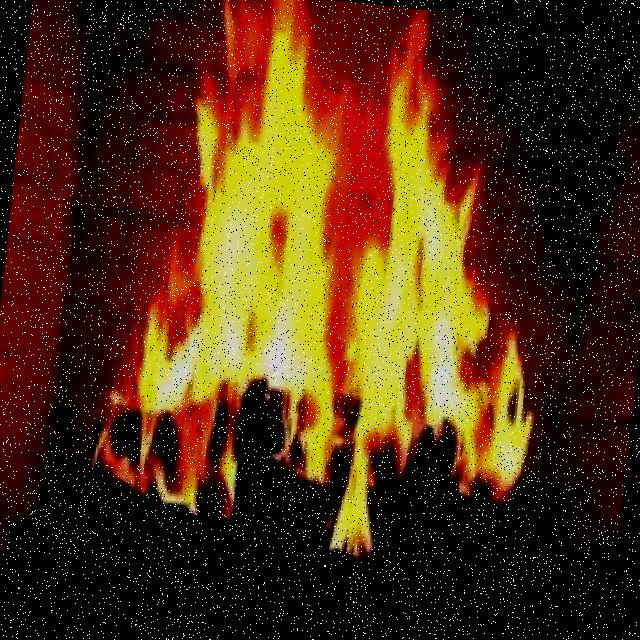Fire: (142, 10, 563, 481)
